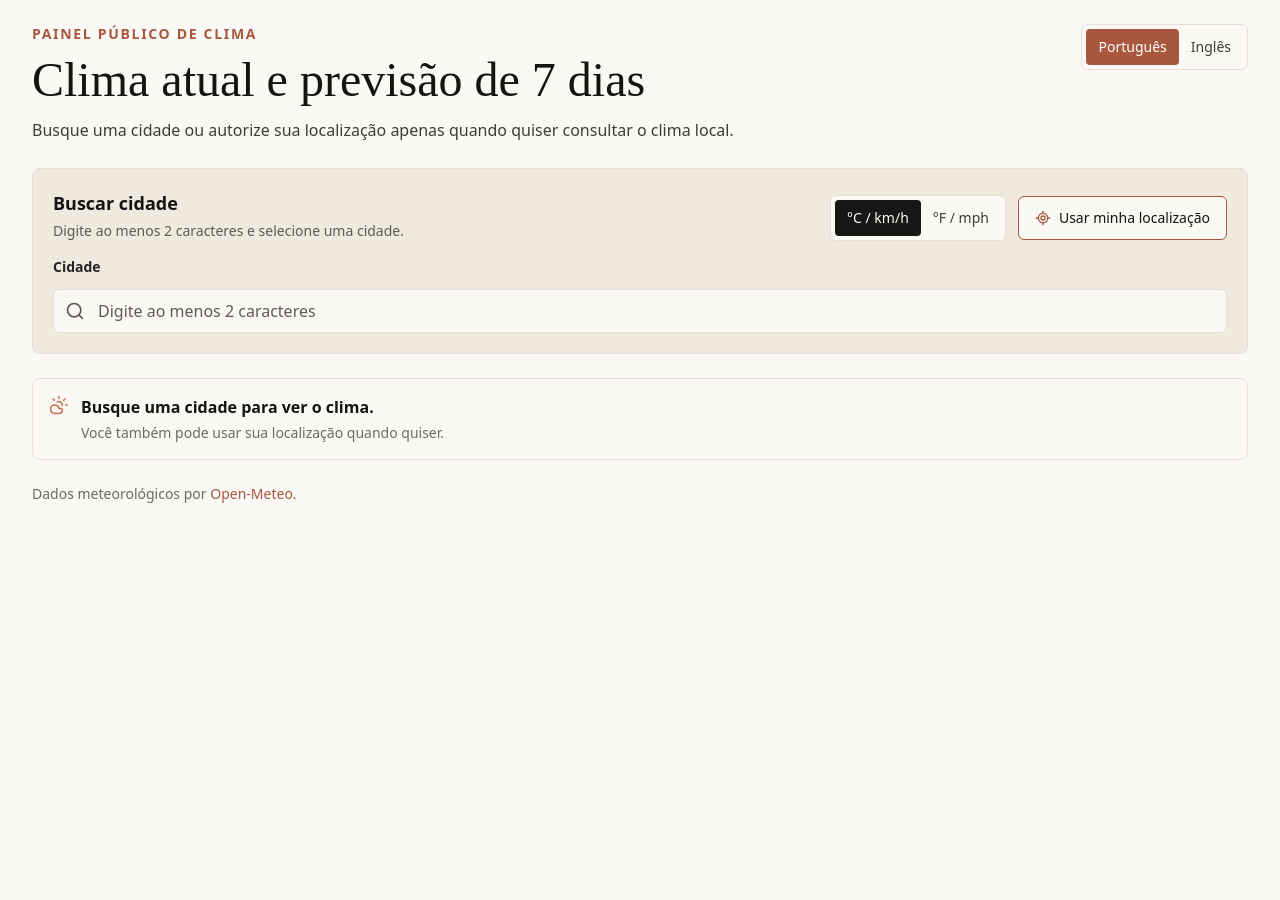
WeatherPage › should replace a previous city query with the resolved geolocation label
In the dropdown named "Buscar cidade": (640, 311) [53,289,1227,333], type "Curitiba"
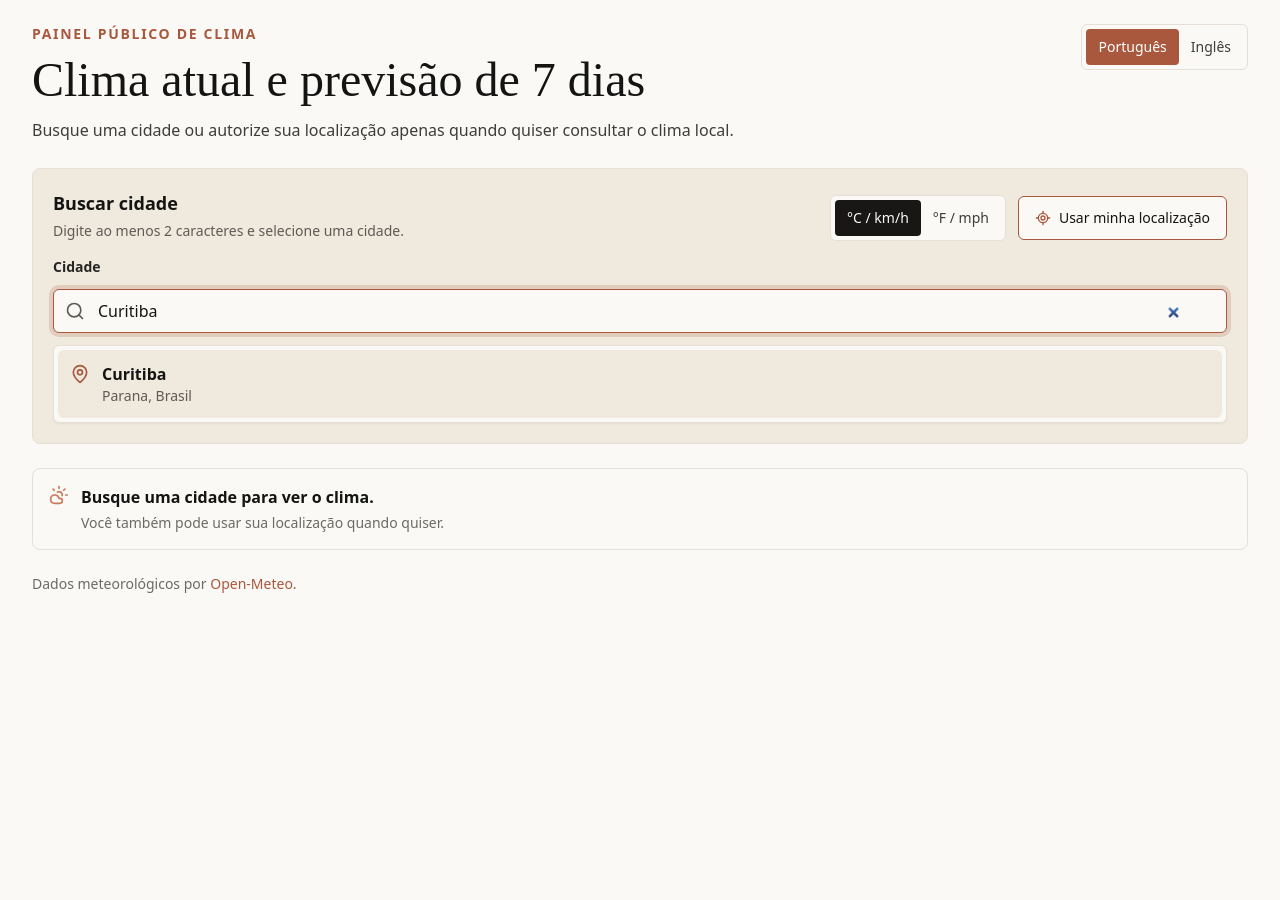
Click the option with aria-label "Selecionar Curitiba, Parana, Brasil": (134, 374) [58,350,1222,418]
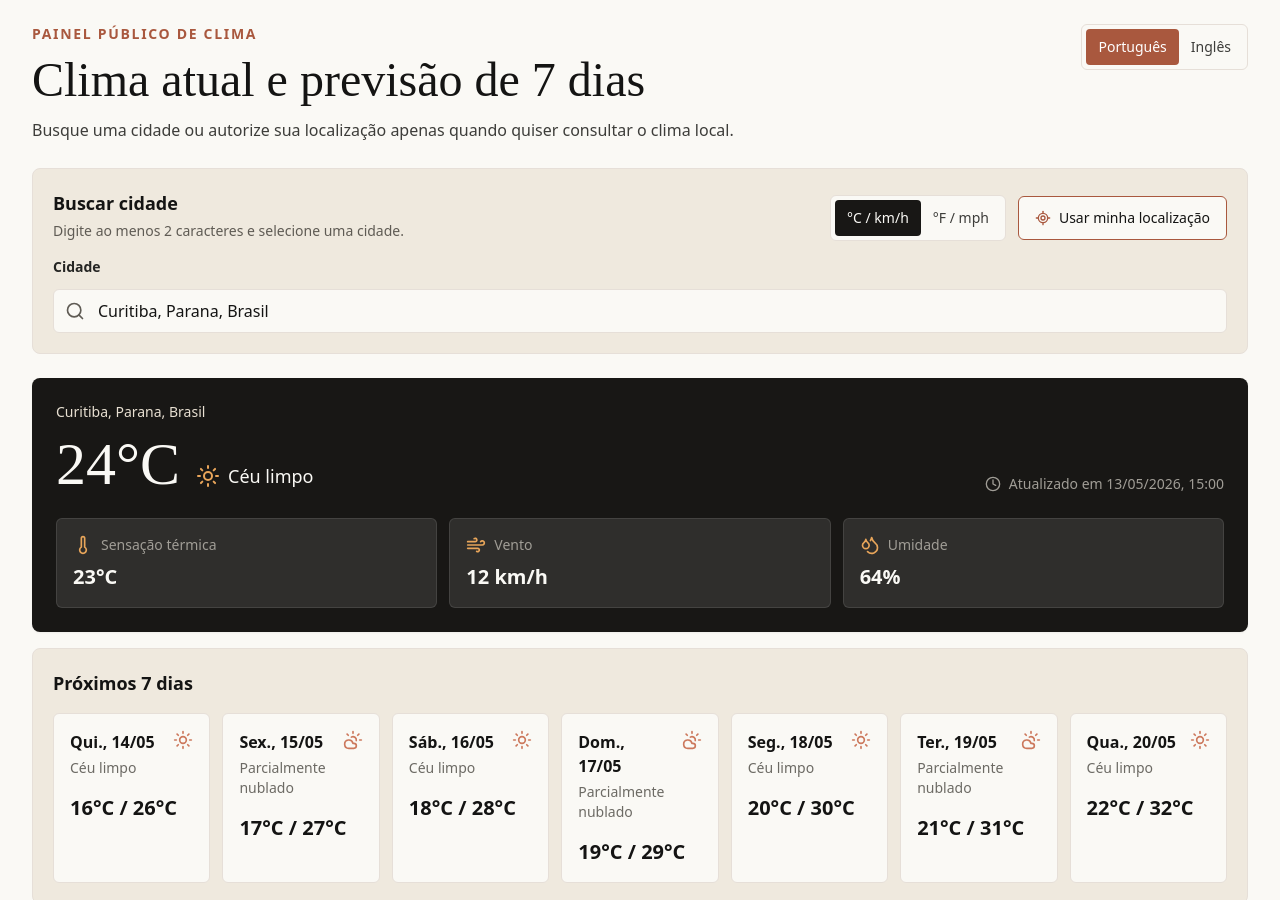
Replace the text in the dropdown named "Buscar cidade" with "Busca anterior": (640, 311) [53,289,1227,333]
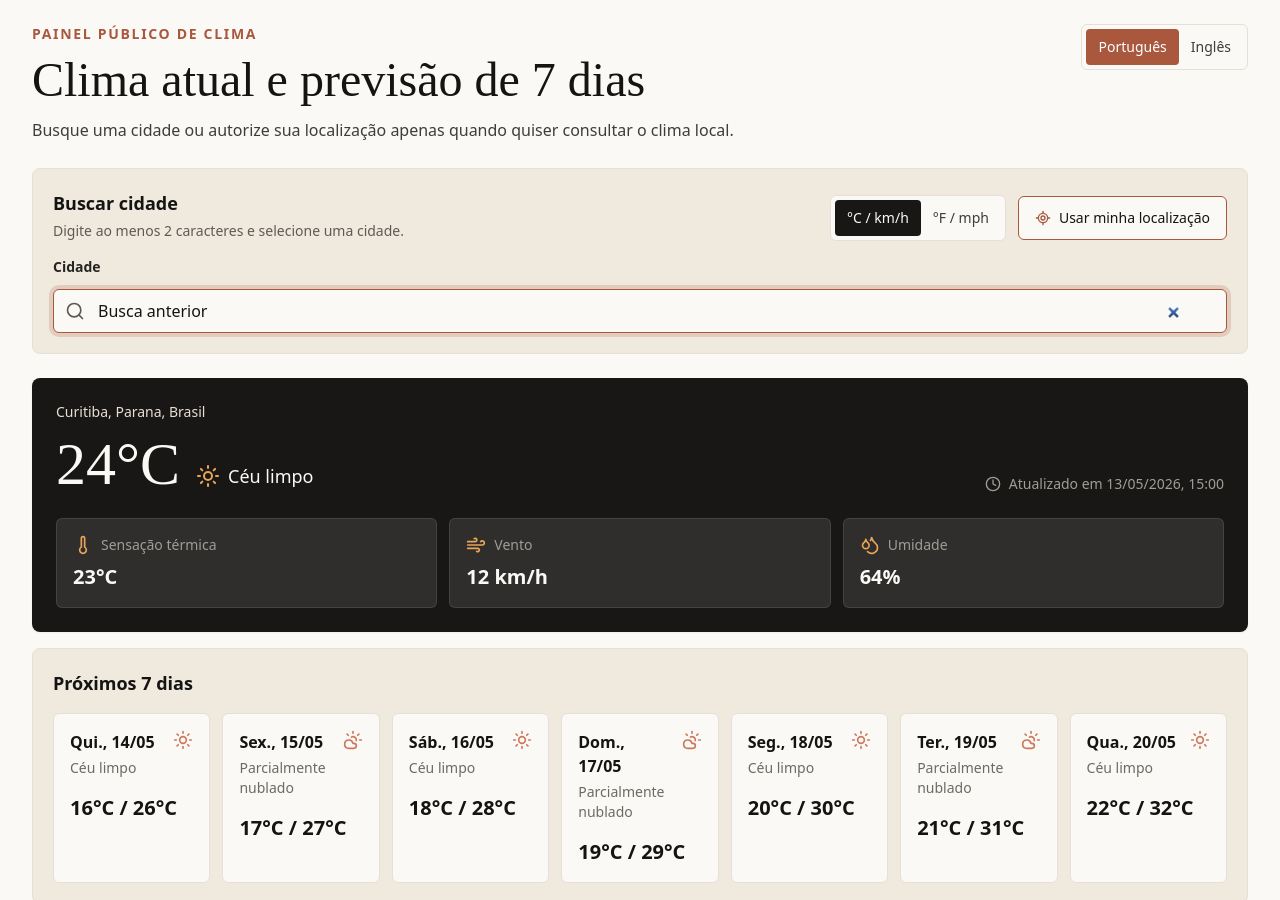
Click the button "Usar minha localização": (1122, 218) [1018,196,1227,240]
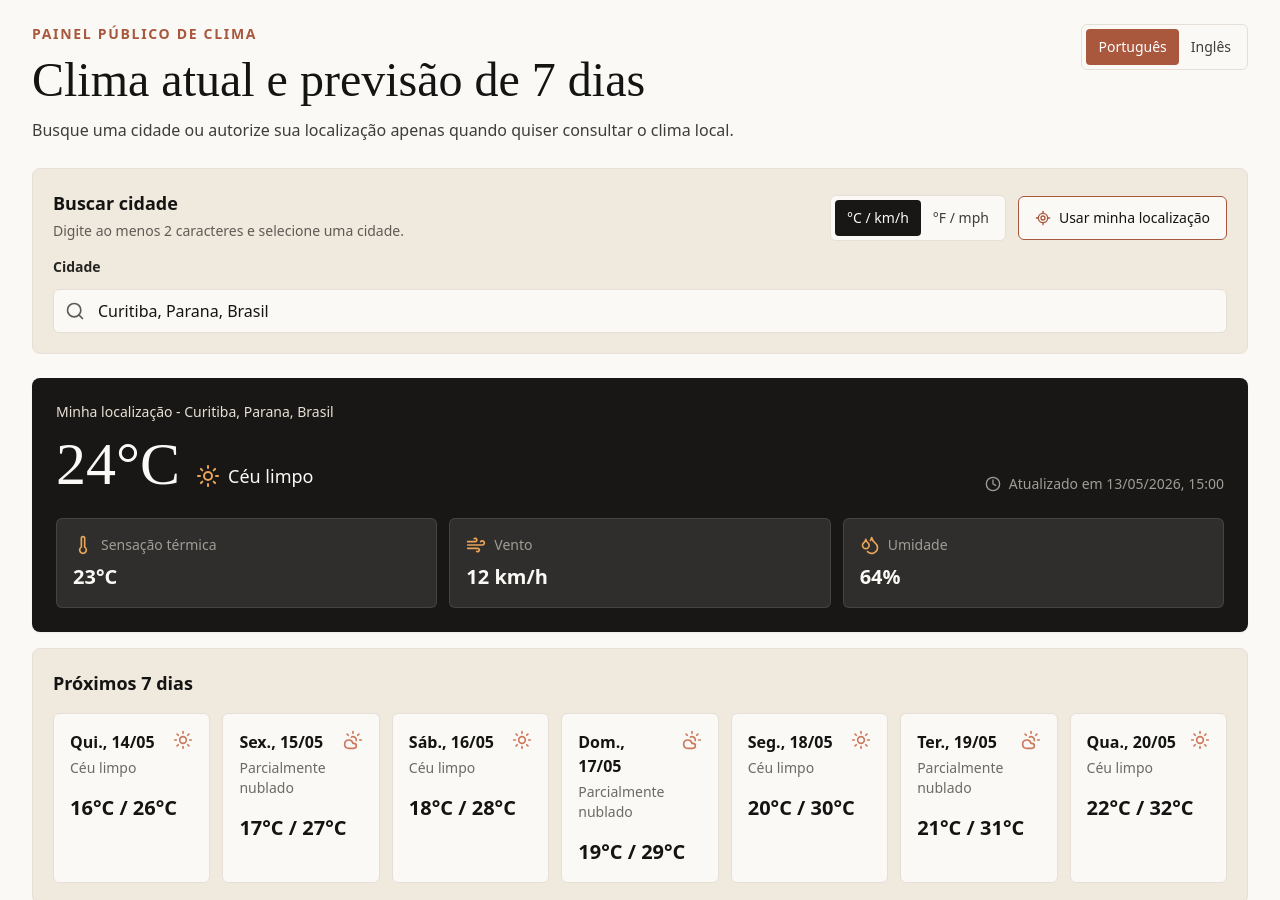
Now the heading "24°C" is shown, box [56,434,180,494]
Now the dropdown named "Buscar cidade" holds "Curitiba, Parana, Brasil", box [53,289,1227,333]
